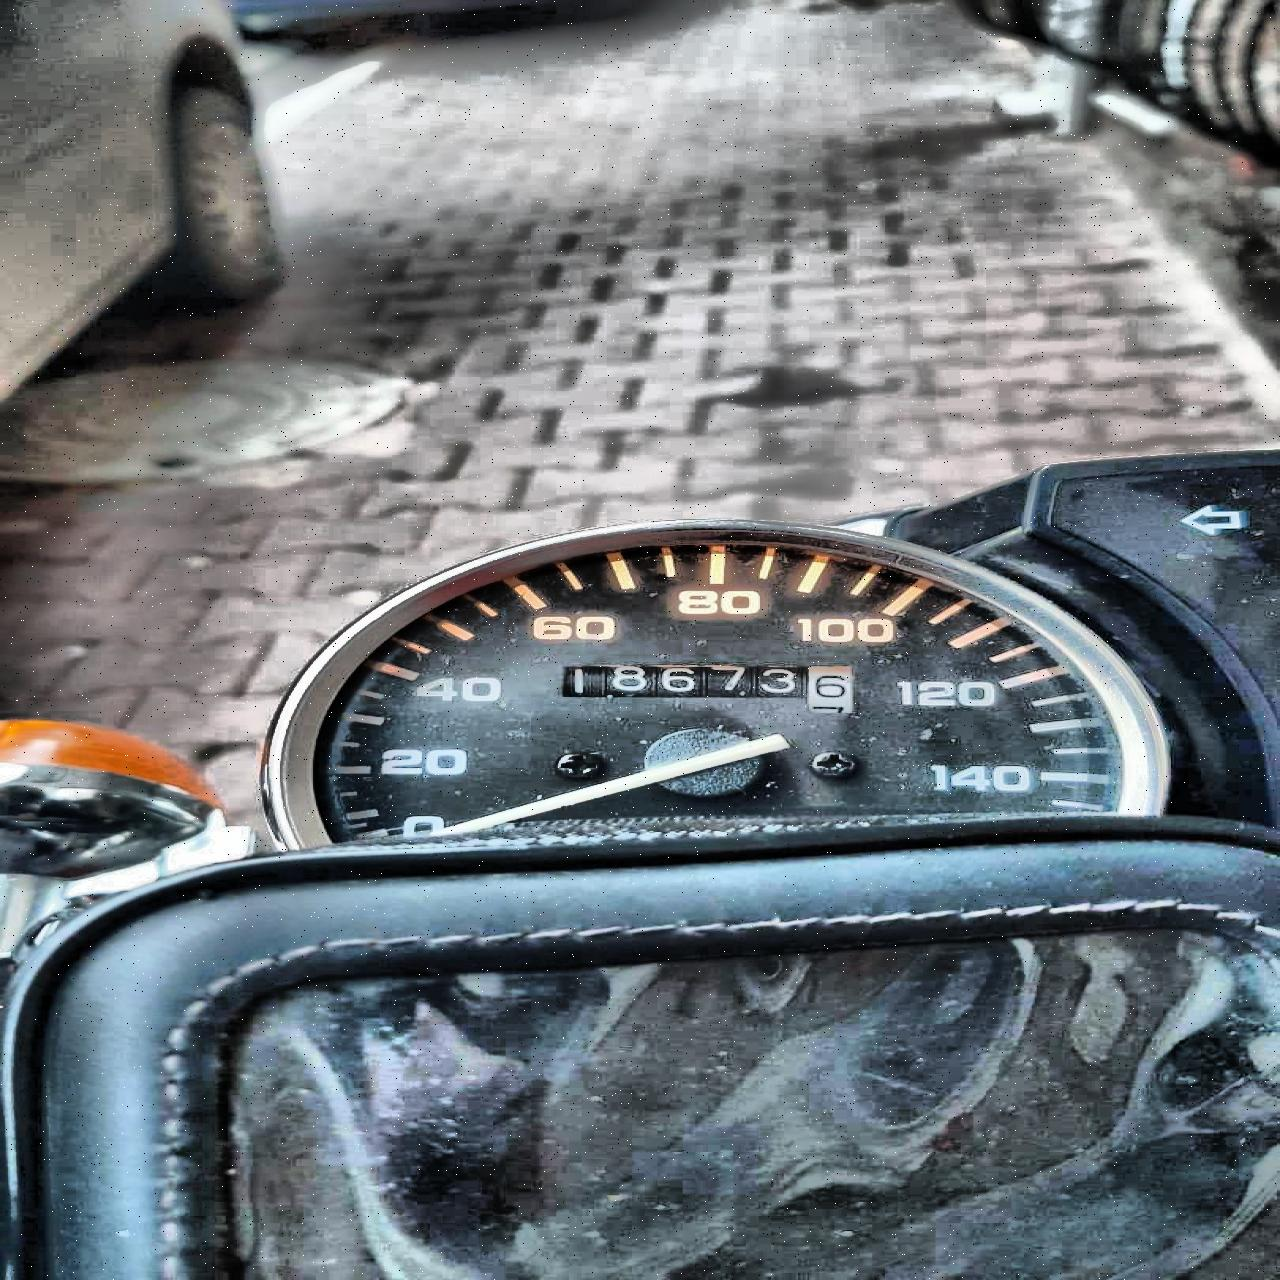1: (563, 663, 592, 700)
3: (757, 666, 794, 694)
6: (658, 663, 699, 696), (809, 670, 850, 701)
7: (704, 662, 744, 689)
8: (605, 661, 648, 696)
odometer: (553, 660, 874, 720)
